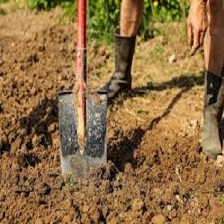clay_soil: (7, 35, 203, 207)
